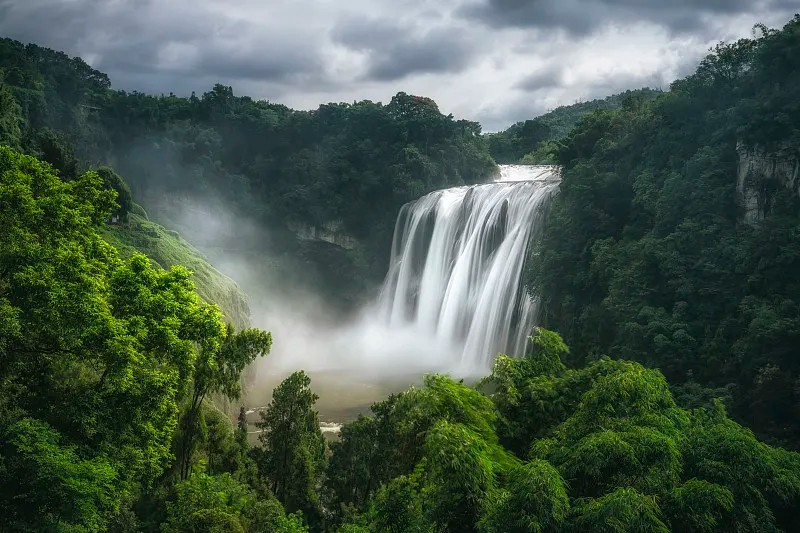Huangguoshu: (391, 164, 562, 364)
